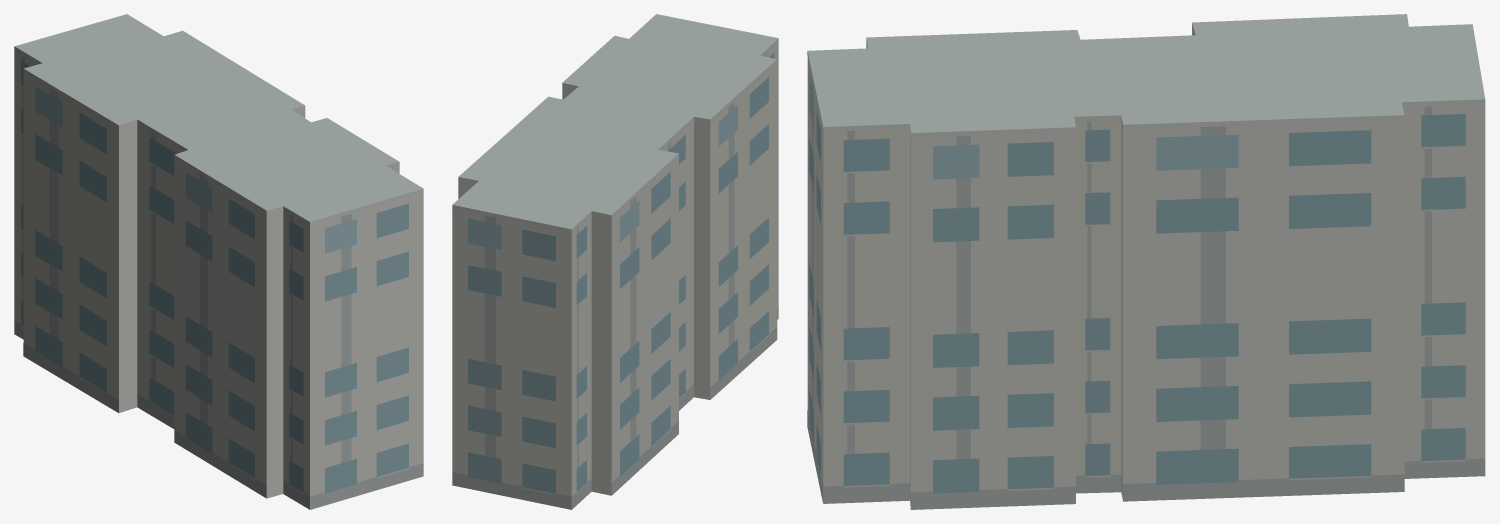
Rendered from survey-upis-32663061.glb.
3 renders of one model, left to right at view 1: azimuth 30°, elevation 25°; view 2: azimuth 150°, elevation 25°; view 3: azimuth 270°, elevation 25°, orthographic. The views are drawn at different scales.
Visible parts, largest first — view 1: survey-upis-32663061.tmp; view 2: survey-upis-32663061.tmp; view 3: survey-upis-32663061.tmp.
Part boxes in pixels (left/top/right/bottom): survey-upis-32663061.tmp: left=14, top=14, right=423, bottom=509; survey-upis-32663061.tmp: left=452, top=14, right=778, bottom=509; survey-upis-32663061.tmp: left=807, top=14, right=1485, bottom=509.
Size of the model in its own units: 12.42 by 18.3 by 29.85.
